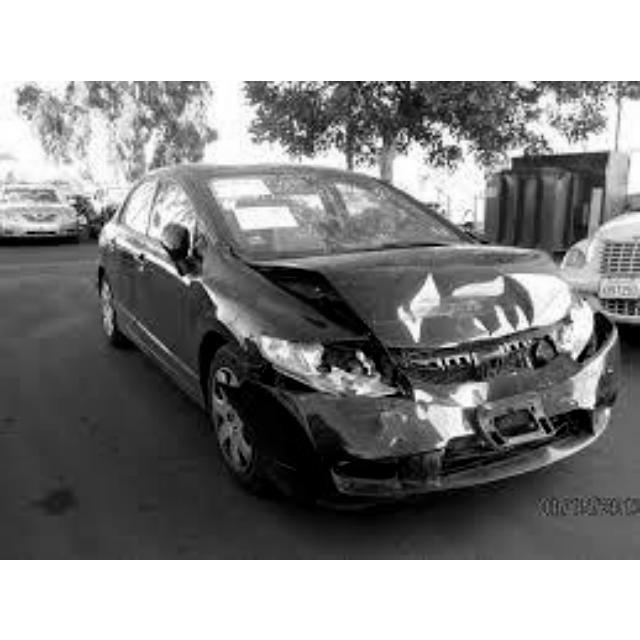Headlight-damage: (273, 338, 403, 398)
bonnet-dent: (287, 246, 568, 349)
front-bumper-dent: (287, 396, 571, 492), (412, 338, 626, 424)
